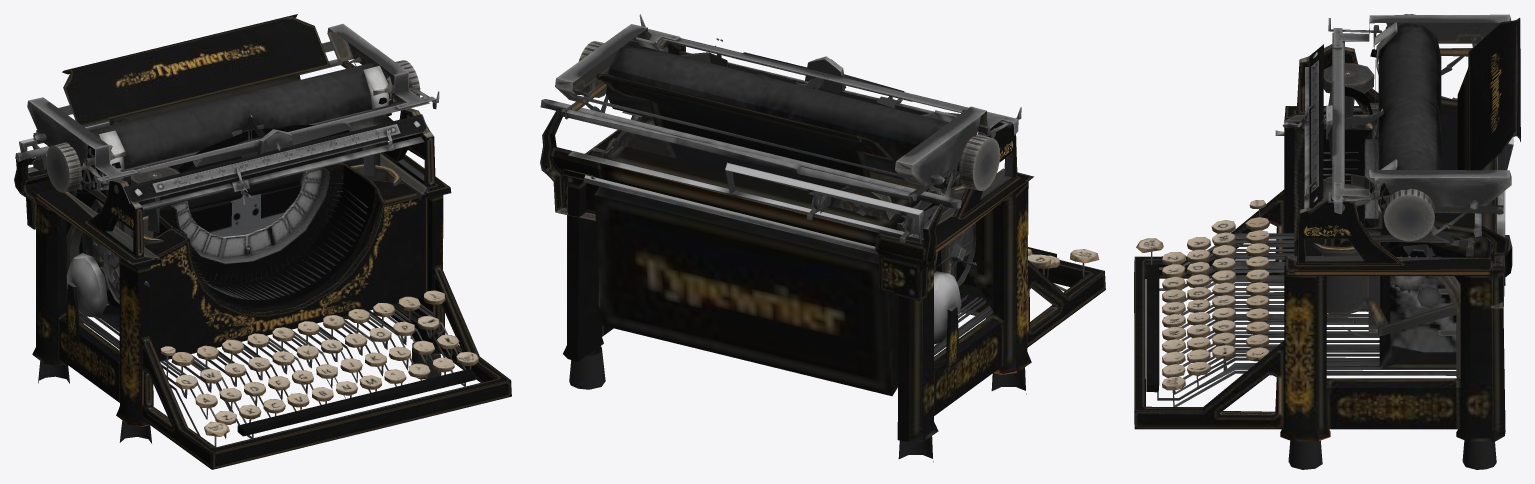
The model's file is office-typewriter-b.lod1.glb.
3 views of the same model, side by side, from view 1: azimuth 30°, elevation 25°; view 2: azimuth 150°, elevation 25°; view 3: azimuth 270°, elevation 25° (orthographic). The views are drawn at different scales.
Visible parts, largest first — view 1: office-typewriter-b; view 2: office-typewriter-b; view 3: office-typewriter-b.
Boxes of the visible parts, x1,y1,x2,y2 form: office-typewriter-b: (14, 14, 511, 469); office-typewriter-b: (540, 14, 1105, 462); office-typewriter-b: (1134, 14, 1520, 469).
Bounding box in the file's own units: 0.3555 × 0.2699 × 0.3054.
Materials: 5 (5 with a texture image).
